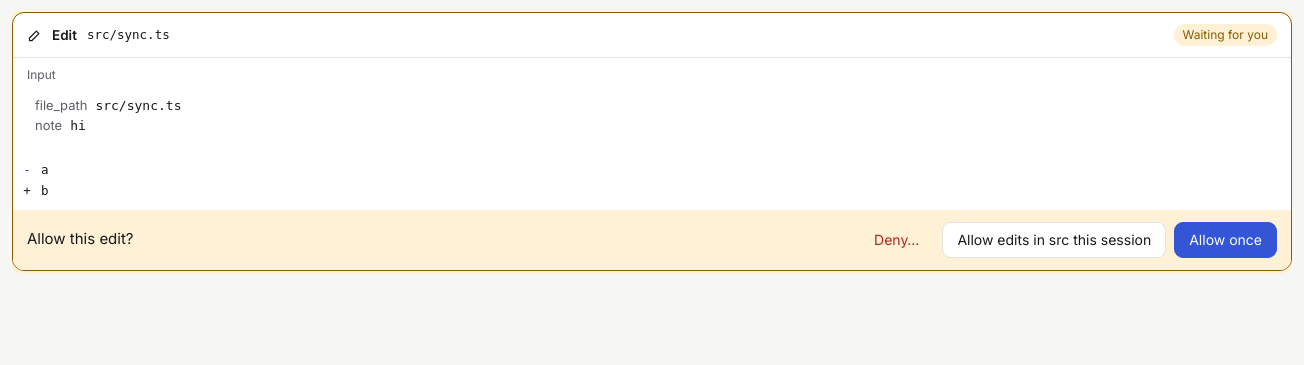
it: ask › ac5_esc_and_cancel_close_the_reason_field_without_a_call
The width and height of the screenshot is (1304, 365).
Click the button "Deny…": (897, 240) [859, 222, 934, 258]
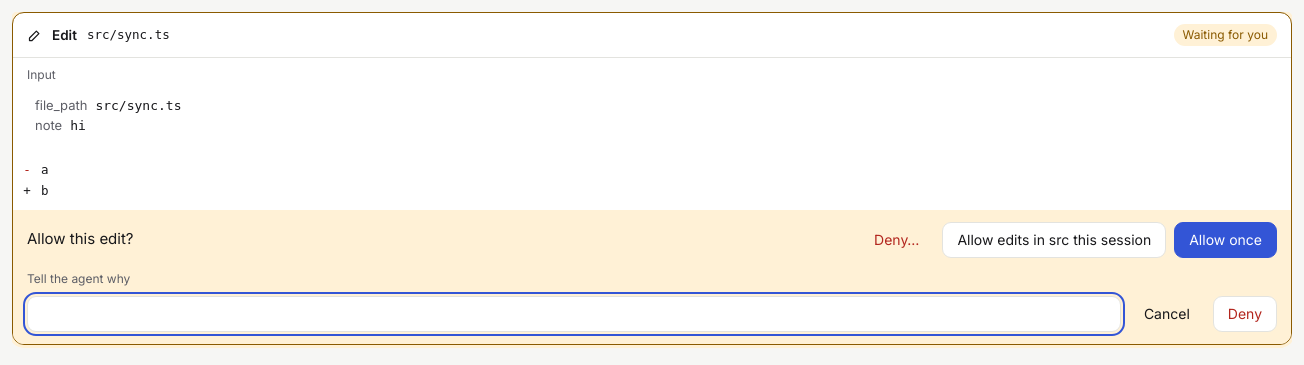
Press Escape
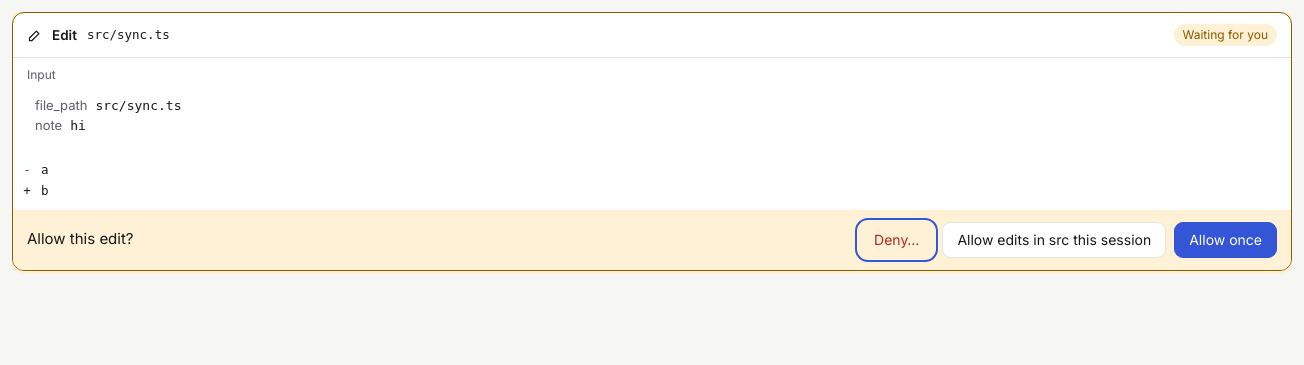
Check: the field is gone
Click the button "Deny…": (897, 240) [859, 222, 934, 258]
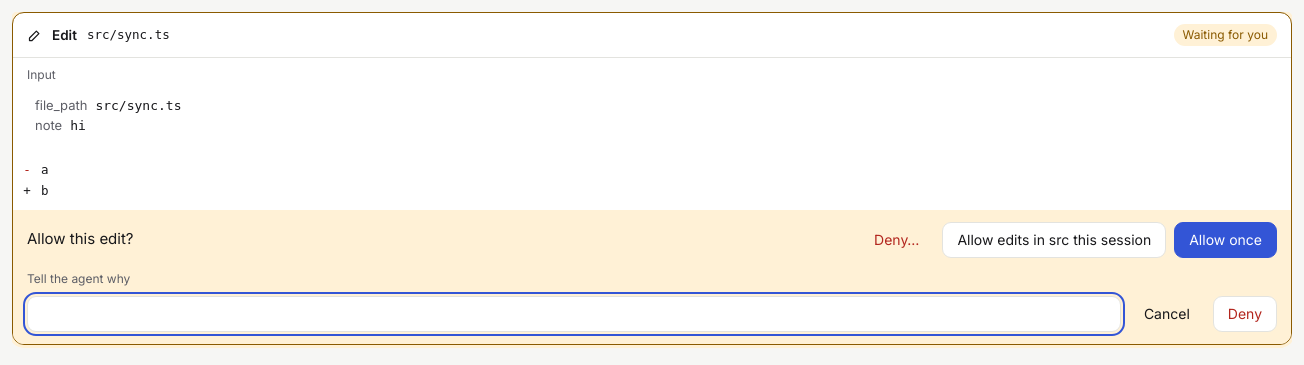
Click the button "Cancel": (1167, 314) [1129, 296, 1205, 332]
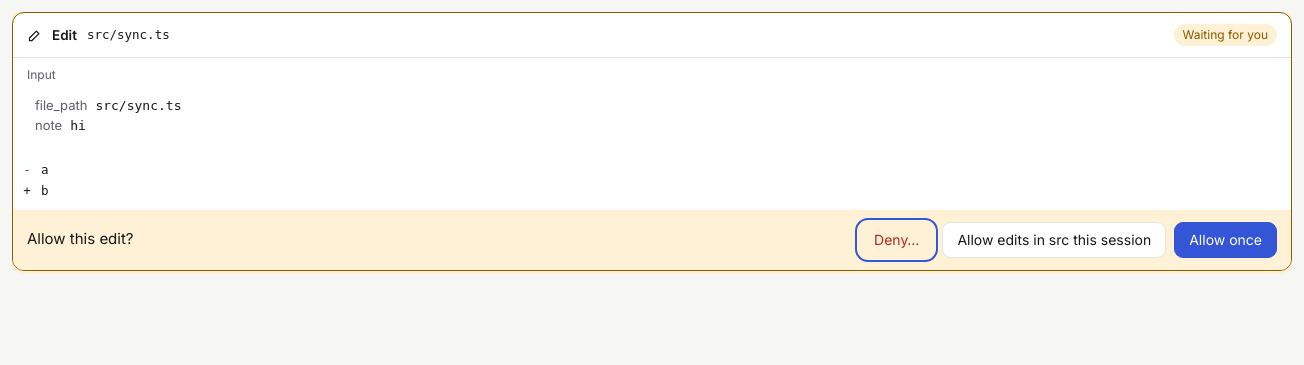
Check: the field is gone
